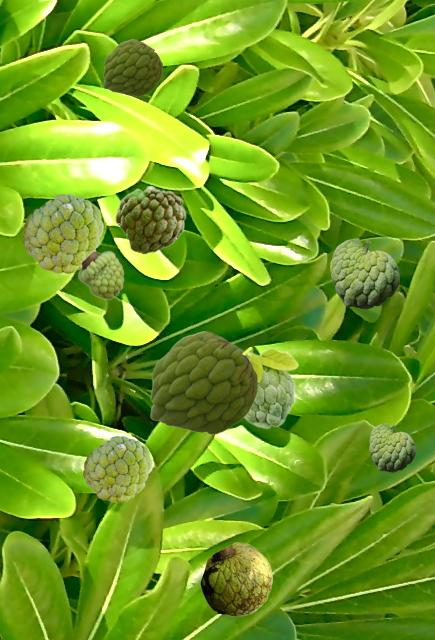atis: (150, 331, 256, 433), (22, 194, 102, 272), (200, 542, 271, 615), (114, 185, 185, 253), (331, 238, 398, 308), (244, 347, 298, 428), (83, 436, 150, 501), (103, 39, 161, 95), (78, 250, 123, 299), (369, 423, 414, 471)
